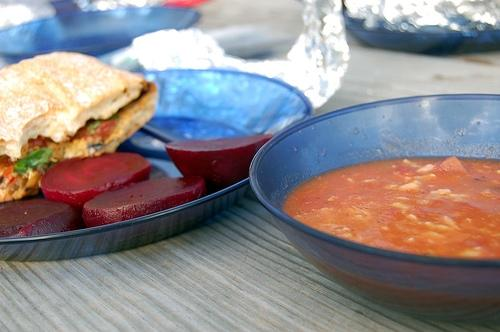lettuce: (13, 147, 53, 174), (85, 112, 120, 134)
tomato: (90, 119, 116, 142), (2, 155, 20, 179)
